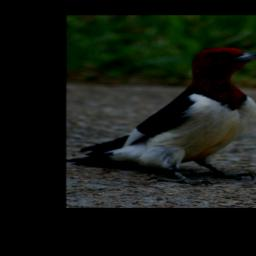Woodpecker: (66, 46, 256, 185)
